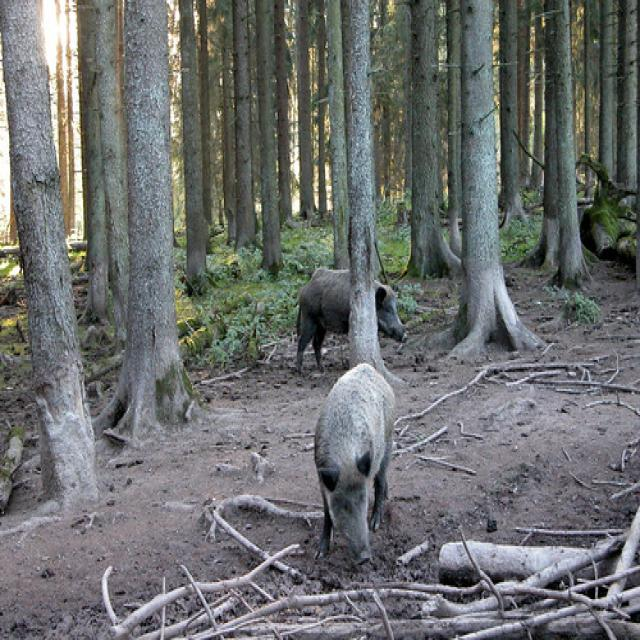boar: (298, 360, 414, 575), (276, 252, 422, 360)
